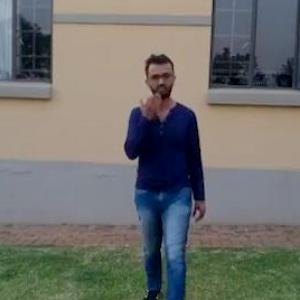follow: (120, 57, 193, 290)
